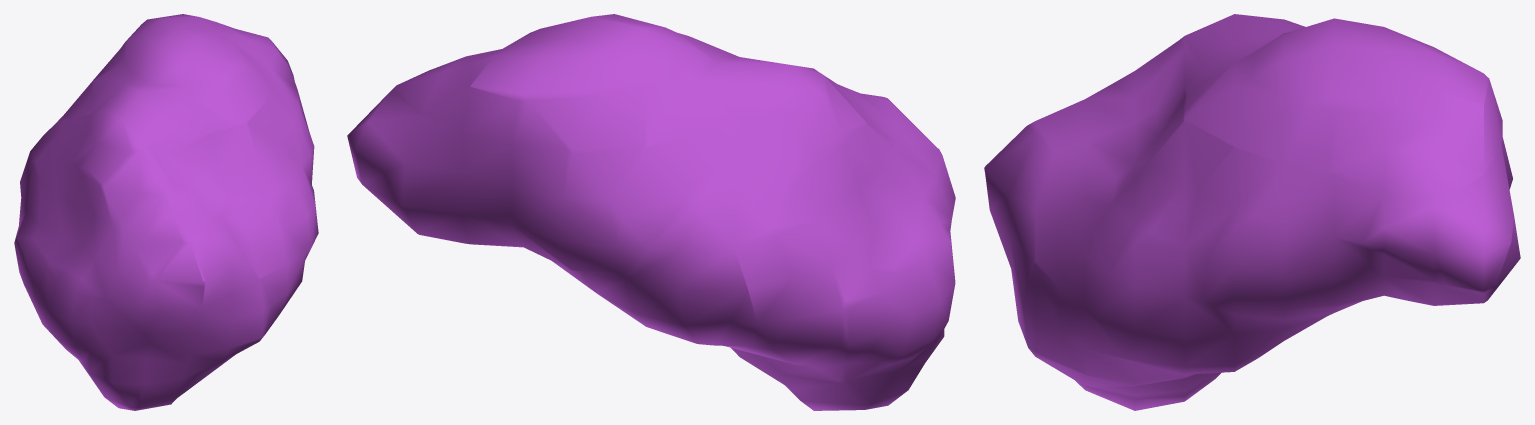
The model's file is Vesicle_50AAligned2.fbx.
The picture shows the model from 3 angles, left to right: view 1: azimuth 30°, elevation 25°; view 2: azimuth 150°, elevation 25°; view 3: azimuth 270°, elevation 25°; orthographic projection. The views are drawn at different scales.
Visible parts, largest first — view 1: vesicle_MeshVes50Mesh; view 2: vesicle_MeshVes50Mesh; view 3: vesicle_MeshVes50Mesh.
Part boxes in pixels (x1,y1,x2,y2): vesicle_MeshVes50Mesh: (14,14,318,410); vesicle_MeshVes50Mesh: (347,14,955,410); vesicle_MeshVes50Mesh: (984,14,1520,410).
Size of the model in its own units: 45.66 by 40.01 by 43.65.
